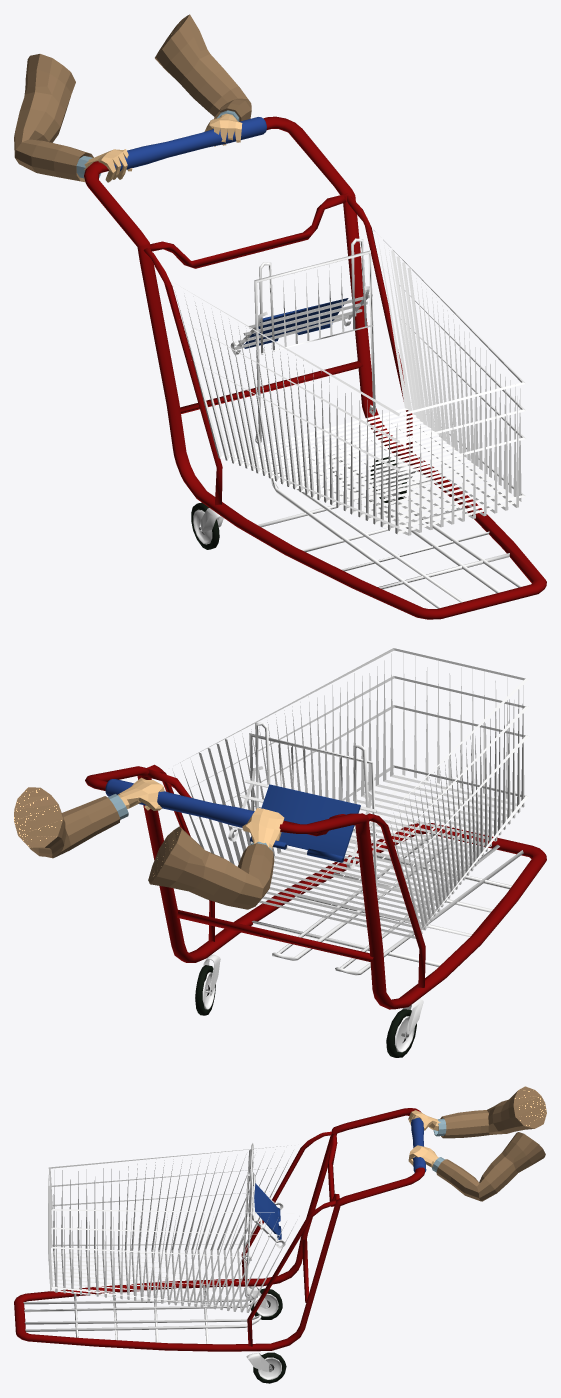
Rendered from KartMale.fbx.
3 views of the same model, one above another, from view 1: azimuth 30°, elevation 25°; view 2: azimuth 150°, elevation 25°; view 3: azimuth 270°, elevation 25° (orthographic). The views are drawn at different scales.
Parts seen in each view (by area): view 1: fgh, Rectangle001, ManCasual5.002, Rectangle002, hjhj, Cylinder012, Line028, l, Line010, Line011, o, Shape001; view 2: fgh, ManCasual5.002, Rectangle001, Rectangle002, o, hjhj, Cylinder012, Shape001, Line010, l, Loft008, Line028 (+2 smaller); view 3: fgh, Rectangle001, ManCasual5.002, Rectangle002, hjhj, Line011, o, Line010, Cylinder012, Line028.
Boxes of the visible parts, box(x1,y1,x2,y2) form: fgh: box(175, 230, 525, 535); Rectangle001: box(84, 116, 546, 619); ManCasual5.002: box(14, 14, 251, 182); Rectangle002: box(257, 454, 522, 608); hjhj: box(254, 238, 375, 443); Cylinder012: box(114, 117, 266, 171); Line028: box(149, 193, 347, 268); l: box(230, 286, 372, 354); Line010: box(143, 248, 222, 505); Line011: box(347, 195, 412, 453); o: box(243, 298, 348, 348); Shape001: box(180, 361, 363, 413); fgh: box(173, 648, 528, 938); ManCasual5.002: box(14, 777, 284, 909); Rectangle001: box(85, 766, 546, 1009); Rectangle002: box(252, 830, 523, 975); o: box(250, 784, 360, 862); hjhj: box(249, 722, 377, 900); Cylinder012: box(105, 779, 254, 827); Shape001: box(177, 910, 373, 961); Line010: box(366, 813, 425, 987); l: box(228, 766, 376, 869); Loft008: box(386, 1009, 416, 1057); Line028: box(143, 768, 355, 836); fgh: box(48, 1145, 299, 1312); Rectangle001: box(14, 1108, 424, 1351); ManCasual5.002: box(408, 1086, 546, 1201); Rectangle002: box(23, 1285, 261, 1343); hjhj: box(242, 1143, 255, 1300); Line011: box(247, 1200, 336, 1346); o: box(254, 1183, 281, 1239); Line010: box(241, 1131, 331, 1280); Cylinder012: box(411, 1117, 426, 1172); Line028: box(327, 1133, 339, 1206).
Bounding box in the file's own units: 60.58 × 89.29 × 176.
